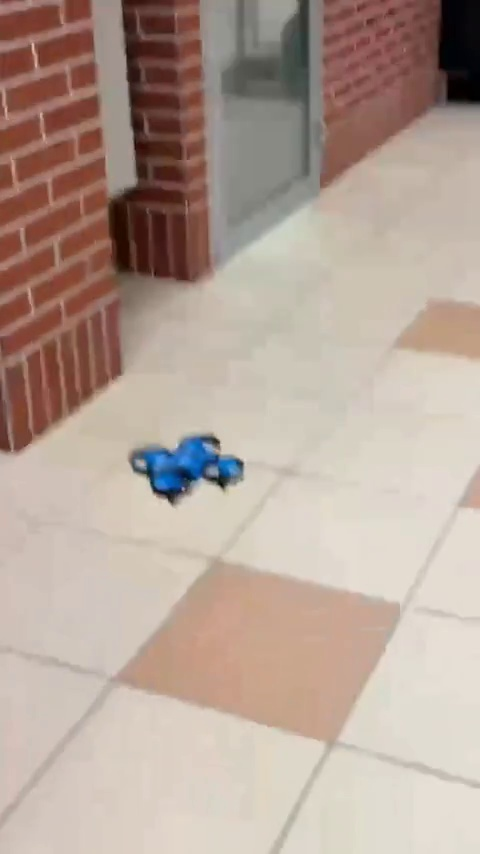drone: (125, 431, 245, 497)
